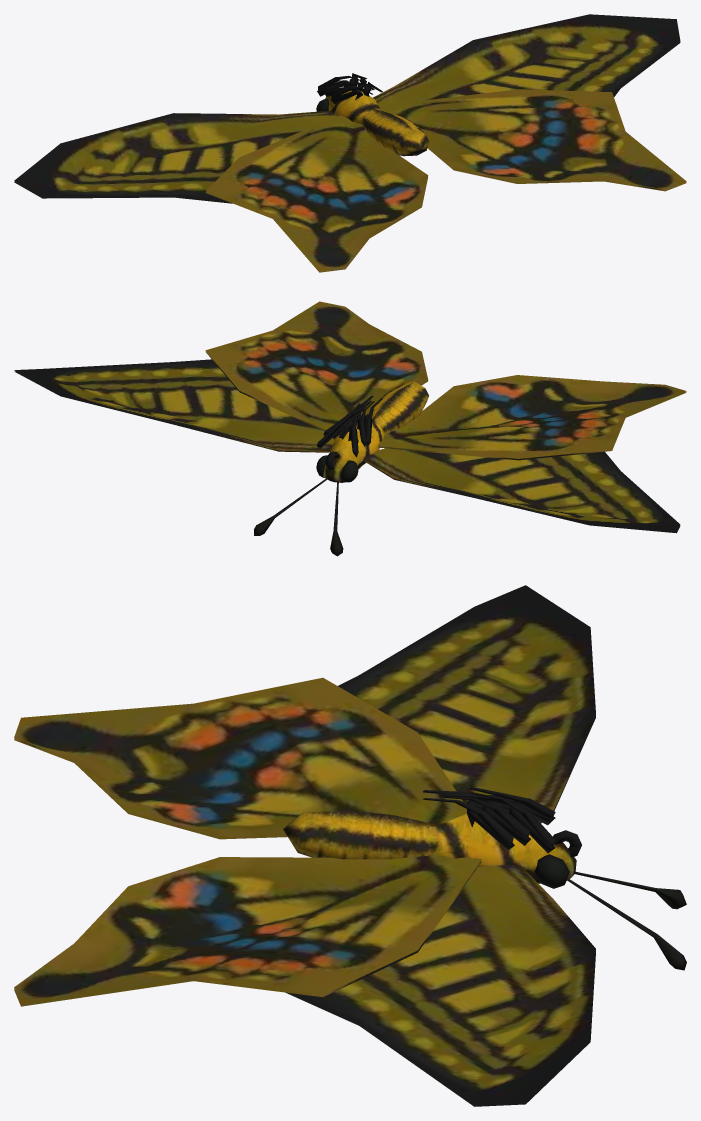
The model's file is tiger-butterfly.glb.
The picture shows the model from 3 angles, top to bottom: view 1: azimuth 30°, elevation 25°; view 2: azimuth 150°, elevation 25°; view 3: azimuth 270°, elevation 25°; orthographic projection. The views are drawn at different scales.
Parts seen in each view (by area): view 1: InsectAgehacho_node7; view 2: InsectAgehacho_node7; view 3: InsectAgehacho_node7.
Part boxes in pixels (x1,y1,x2,y2): InsectAgehacho_node7: (14,14,686,272); InsectAgehacho_node7: (14,301,686,556); InsectAgehacho_node7: (14,585,686,1106).
Bounding box in the file's own units: 6.48 × 0.8733 × 3.56.
Materials: 1 (1 with a texture image).
